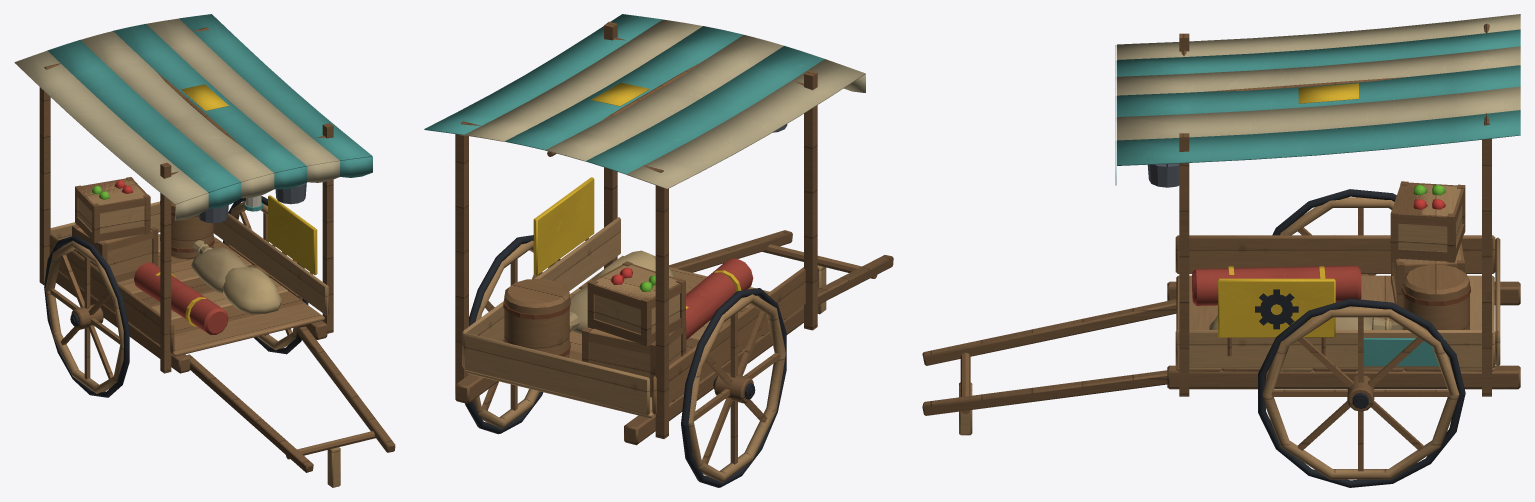
Rendered from trade_cart.glb.
The picture shows the model from 3 angles, left to right: view 1: azimuth 30°, elevation 25°; view 2: azimuth 150°, elevation 25°; view 3: azimuth 270°, elevation 25°; orthographic projection. The views are drawn at different scales.
Parts seen in each view (by area): view 1: trade_cart.001; view 2: trade_cart.001; view 3: trade_cart.001.
Boxes of the visible parts, left/top/right/bottom form: trade_cart.001: left=14, top=14, right=395, bottom=487; trade_cart.001: left=424, top=14, right=893, bottom=487; trade_cart.001: left=922, top=14, right=1520, bottom=487.
Bounding box in the file's own units: 1.8 × 2.41 × 3.56.
31 materials, 31 textured.
